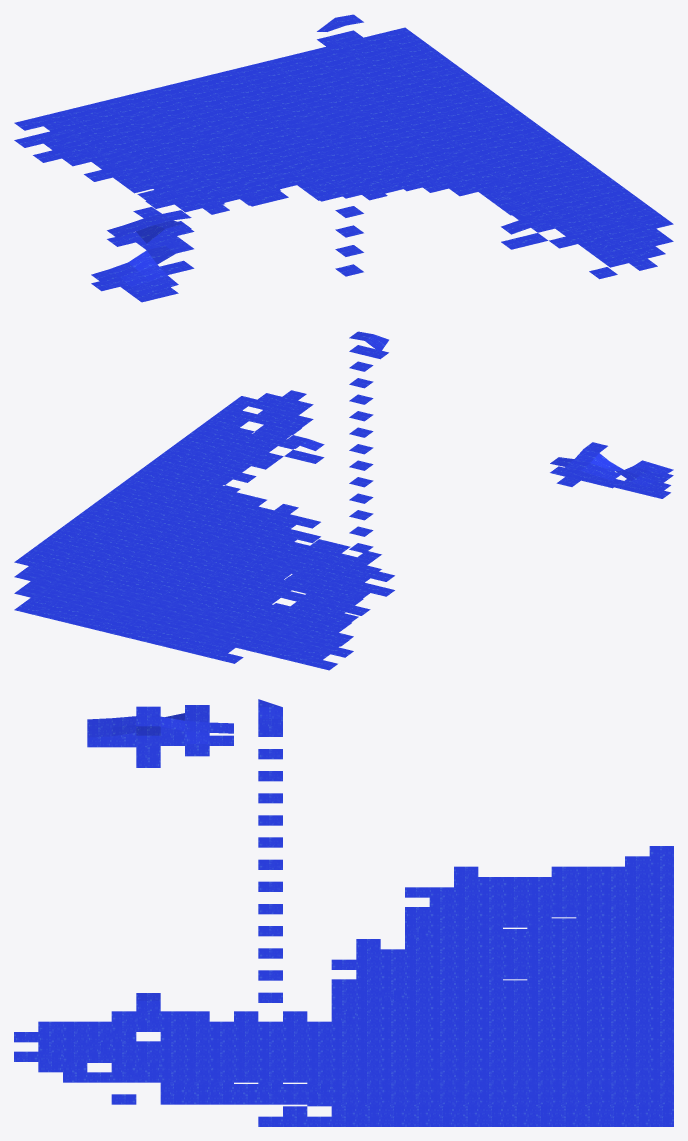
The model's file is lighthouse_water_still.obj.
The picture shows the model from 3 angles, top to bottom: view 1: azimuth 30°, elevation 25°; view 2: azimuth 150°, elevation 25°; view 3: azimuth 270°, elevation 25°; orthographic projection. The views are drawn at different scales.
Bounding box in the file's own units: 29 × 12.88 × 27.
